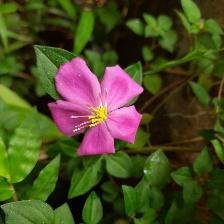malabar melastome: (48, 52, 148, 159)
